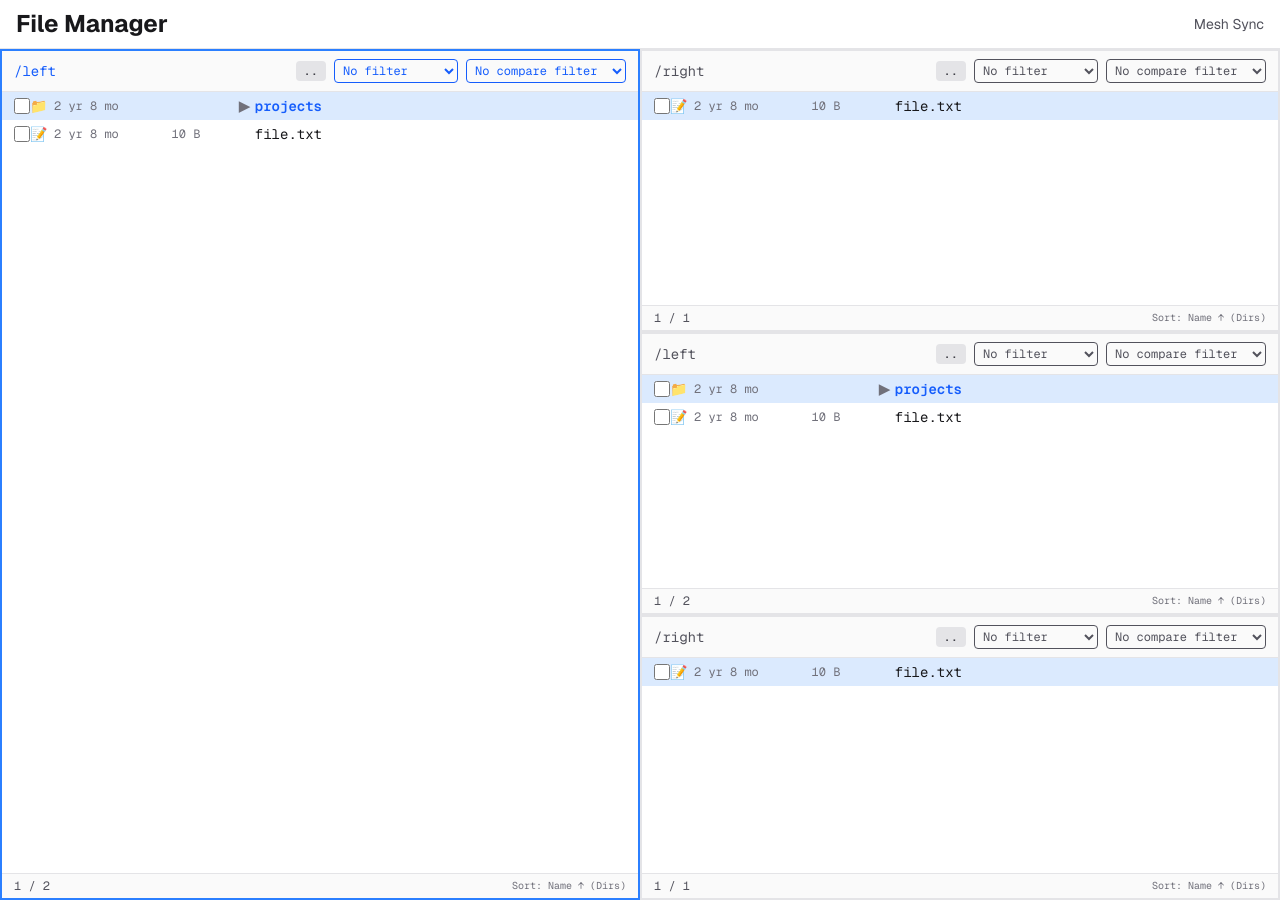
Test: WorkspaceView set base directory [SET_BASE_DIRECTORY] › disables In a new pane when workspace is at maxPanes
Expected: the element with test id "pane-3" is shown, left=640, top=615, right=1279, bottom=899
Right-click the text "projects" at (320, 106), box left=2, top=92, right=638, bottom=120
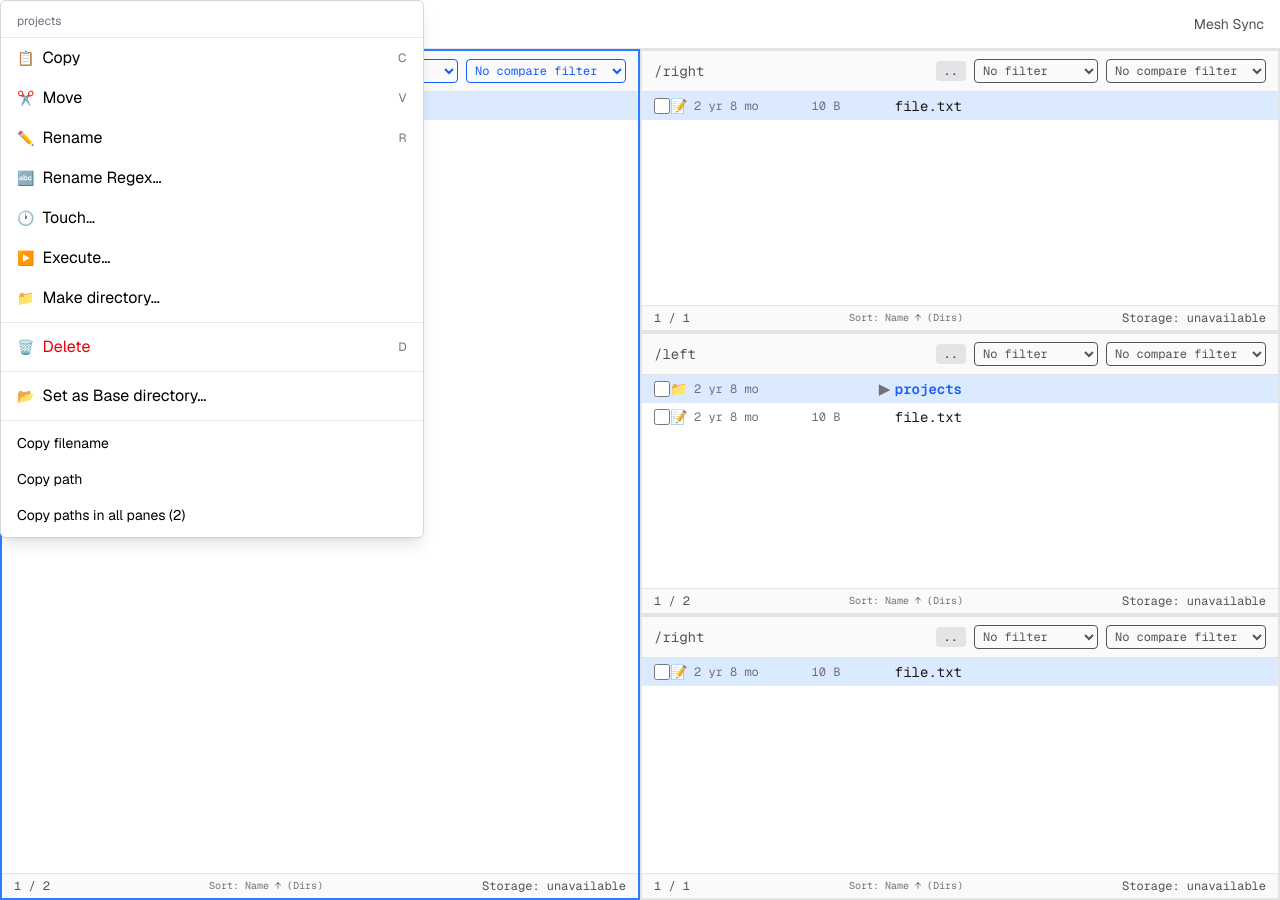
Click the menu item with test id "set-base-directory-menu-item". click: (124, 396)
box: left=1, top=376, right=422, bottom=416
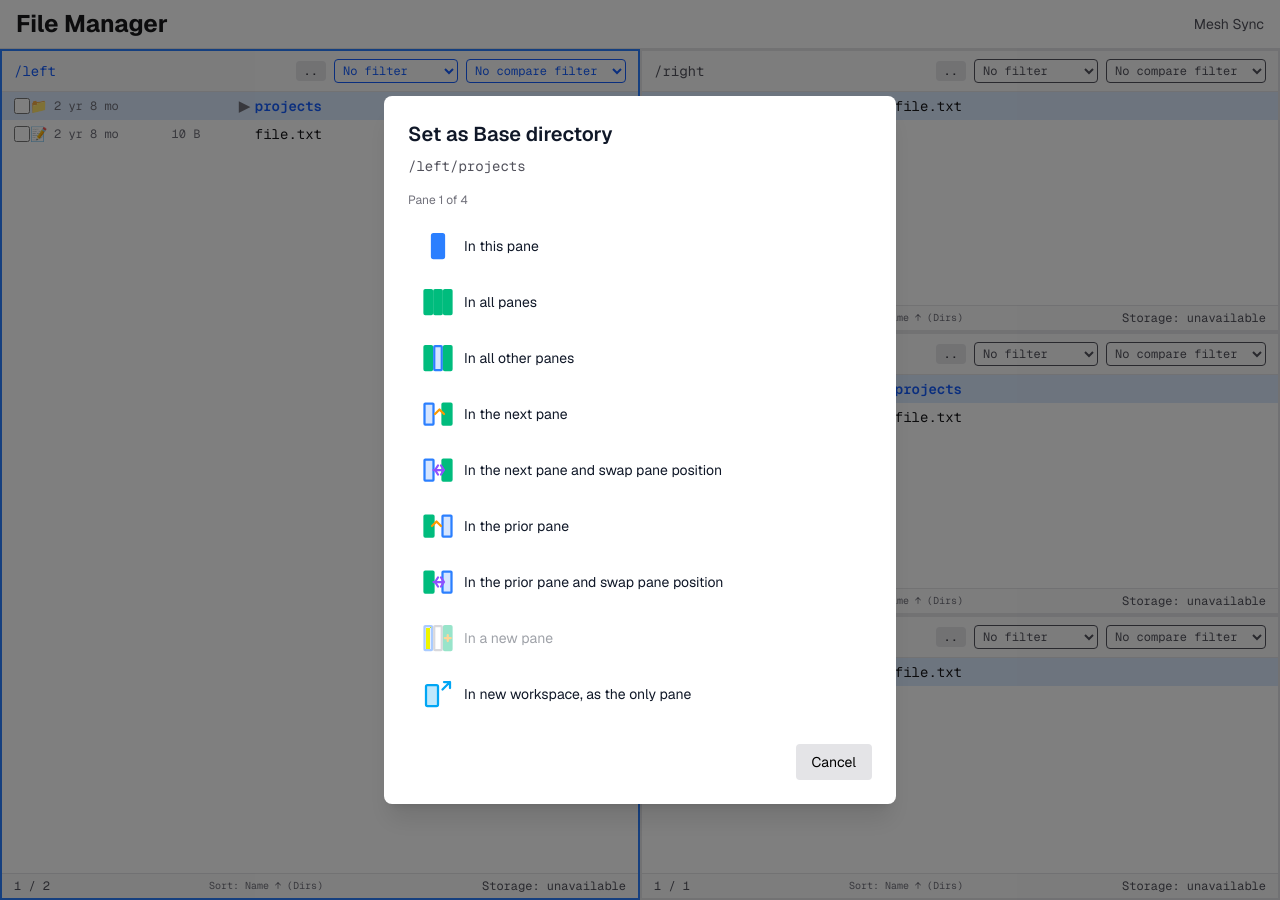
Expected: the dialog with test id "set-base-directory-dialog" is shown, left=384, top=96, right=896, bottom=804
Expected: the button with test id "set-base-in-new-pane" is disabled, left=408, top=612, right=872, bottom=664
